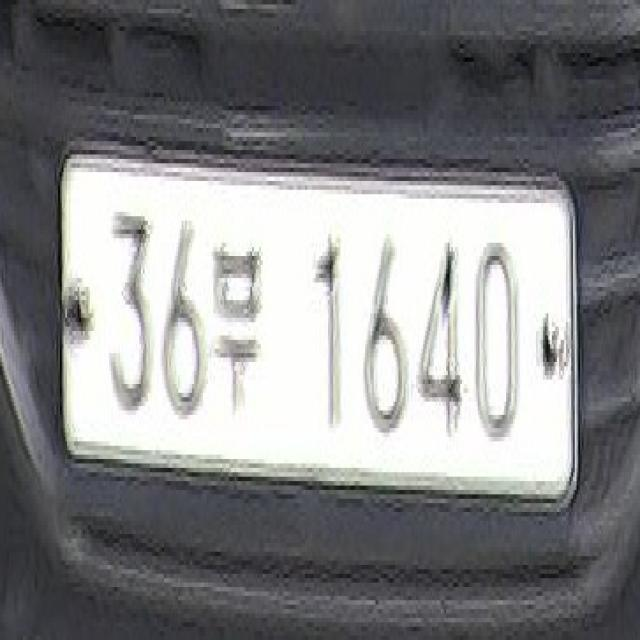0: (471, 238, 518, 432)
1: (312, 230, 342, 423)
3: (106, 207, 155, 415)
4: (416, 238, 467, 437)
6: (160, 221, 207, 419), (362, 238, 408, 437)
license_plate: (58, 141, 577, 512)
mu: (210, 234, 261, 415)
